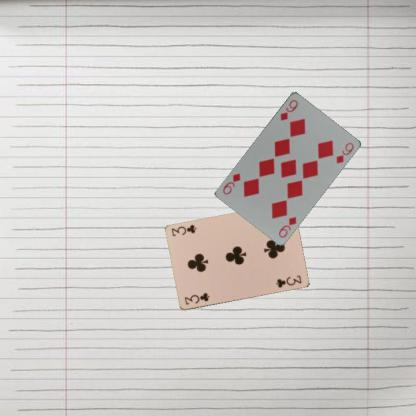3c: (182, 290, 211, 306)
9d: (278, 96, 300, 122), (276, 214, 298, 238)
